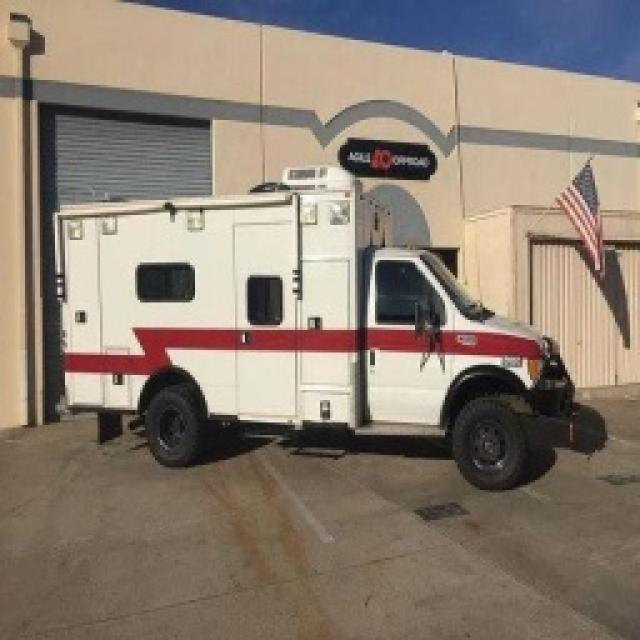emergency-vehicle: (41, 165, 542, 504)
